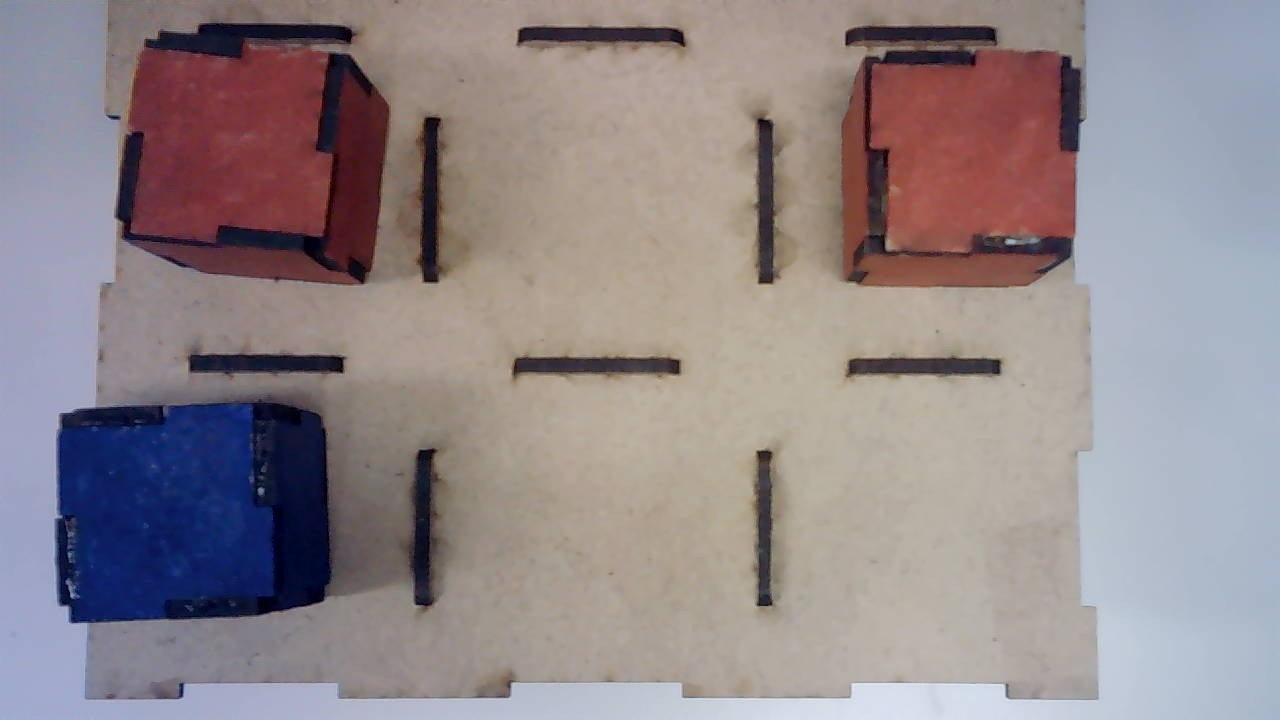blue box: (55, 400, 335, 629)
red box: (120, 31, 390, 296), (837, 48, 1081, 289)
